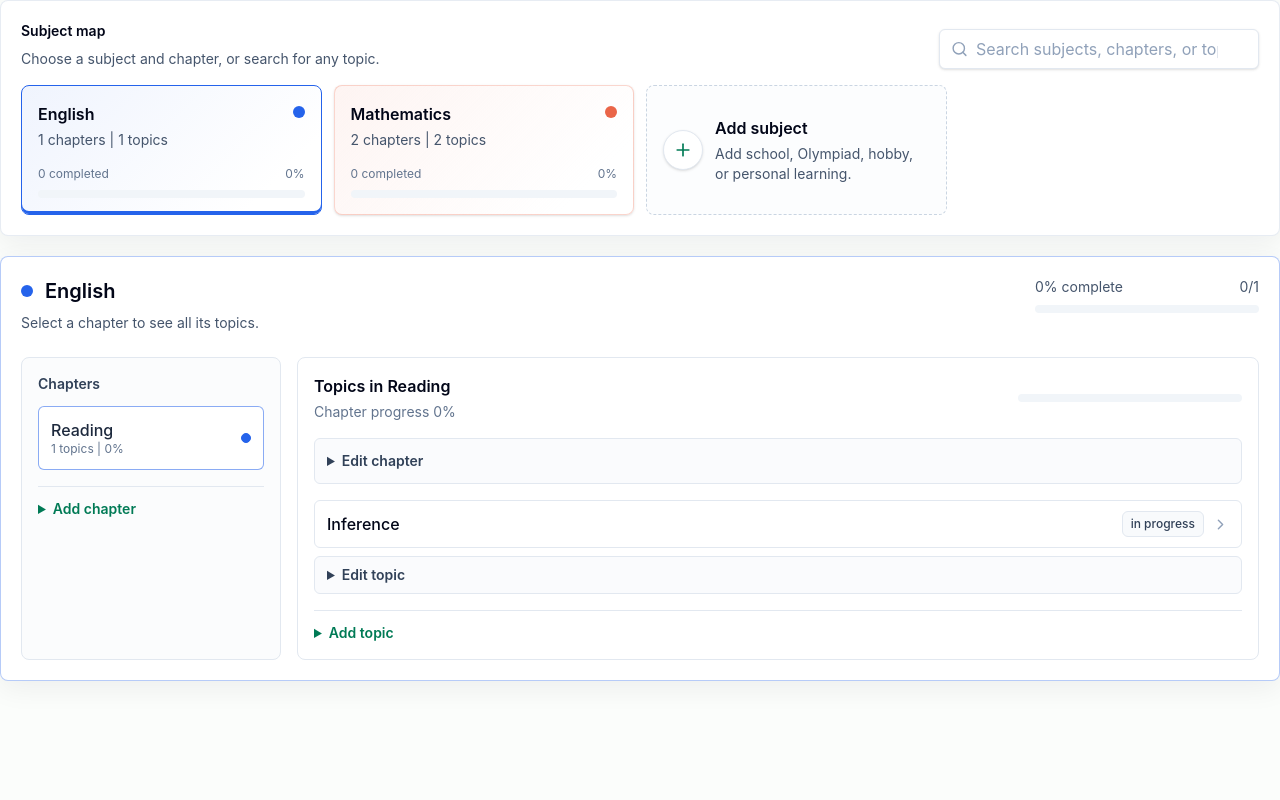
KidSubjectExplorer › searches across subject, chapter, and topic names
This screenshot has width=1280, height=800.
Type "polygon" into the field labelled "Search subjects, chapters, or topics". click: point(1099, 49)
box: [939,29,1259,69]
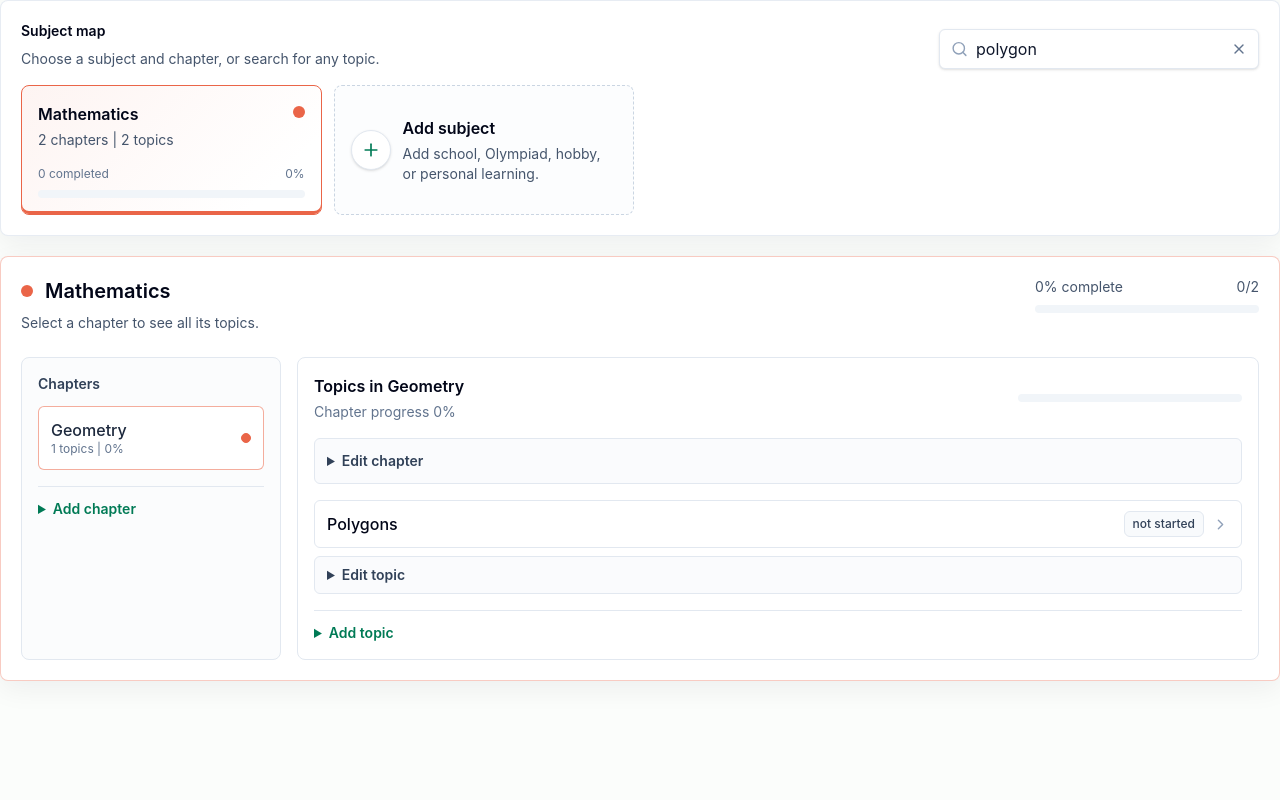
Expected: the button "Mathematics 2 chapters | 2 topics 0 completed 0%" is shown, [21,85,322,215]
Expected: the button "English" is gone
Expected: the link "Polygons not started" is shown, [314,500,1242,548]
